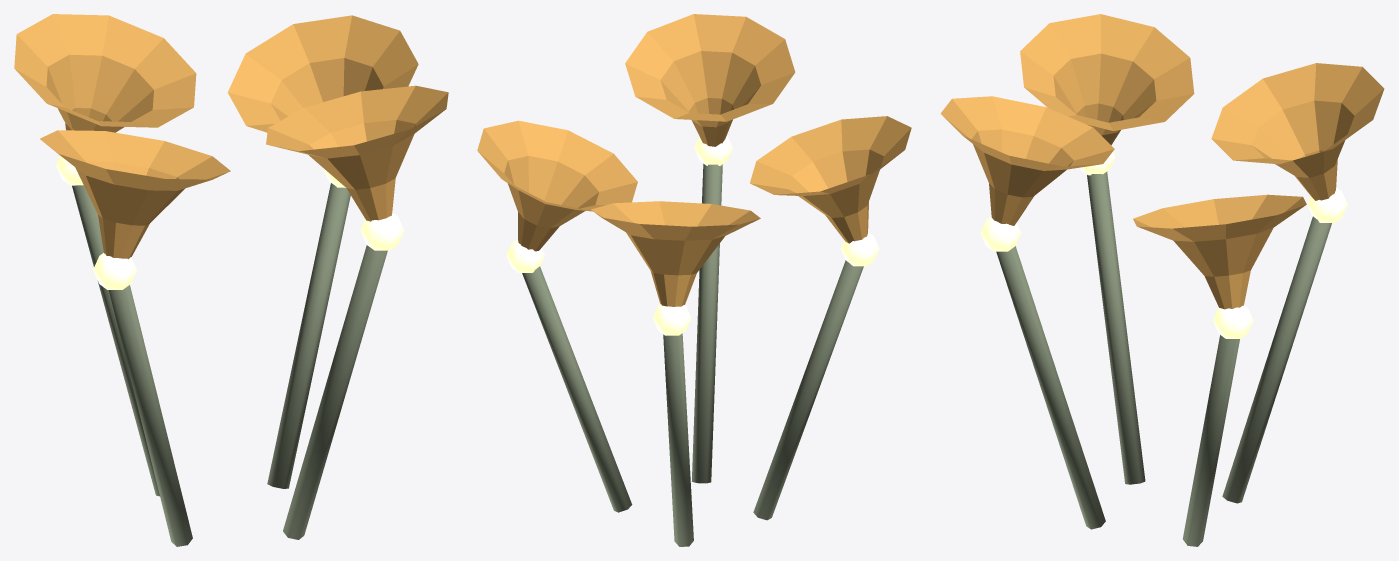
Rendered from v_ab_trumpets.glb.
3 renders of one model, left to right at view 1: azimuth 30°, elevation 25°; view 2: azimuth 150°, elevation 25°; view 3: azimuth 270°, elevation 25°, orthographic. The views are drawn at different scales.
Parts seen in each view (by area): view 1: Trumpets; view 2: Trumpets; view 3: Trumpets.
Part boxes in pixels (x1=…): Trumpets: x1=14, y1=14, x2=448, y2=546; Trumpets: x1=477, y1=14, x2=911, y2=546; Trumpets: x1=940, y1=14, x2=1384, y2=546.
Bounding box in the file's own units: 1.07 × 1.15 × 1.08.
